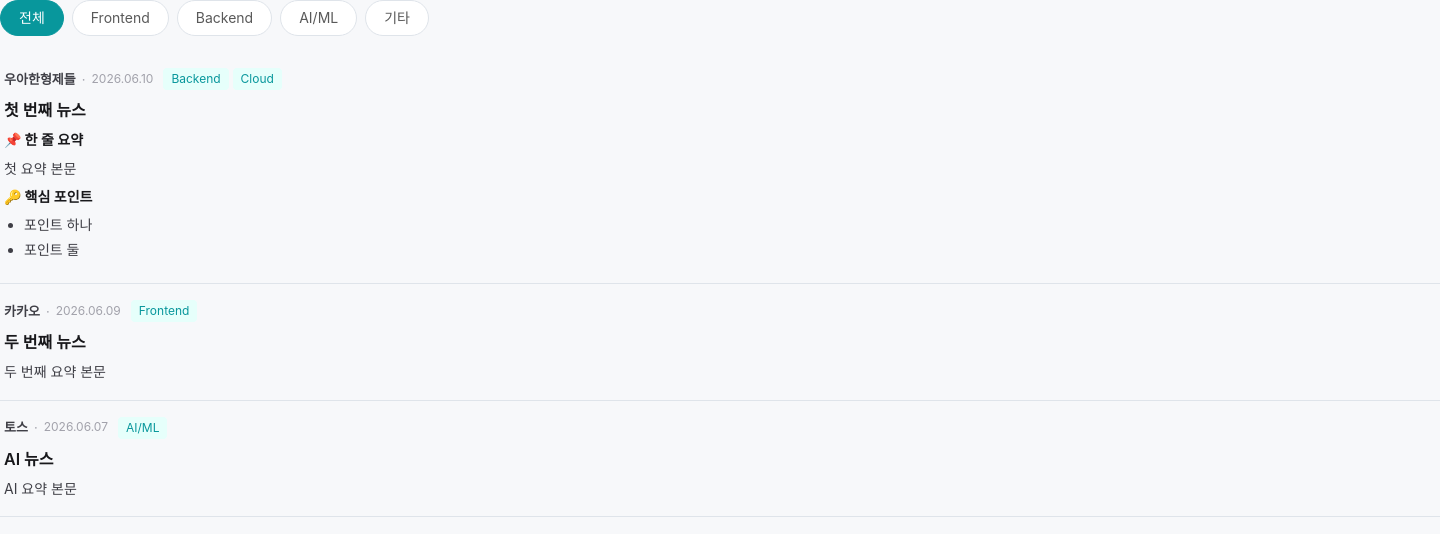
TechNewsPage › 슬래시 포함 라벨(AI/ML) 칩도 categoryId로 정상 필터링한다
The width and height of the screenshot is (1440, 534).
Check: the link "첫 번째 뉴스" is shown, box [4,100,86,120]
Click the text "AI/ML" next to "기타" at [319, 18], box [280,0,357,36]
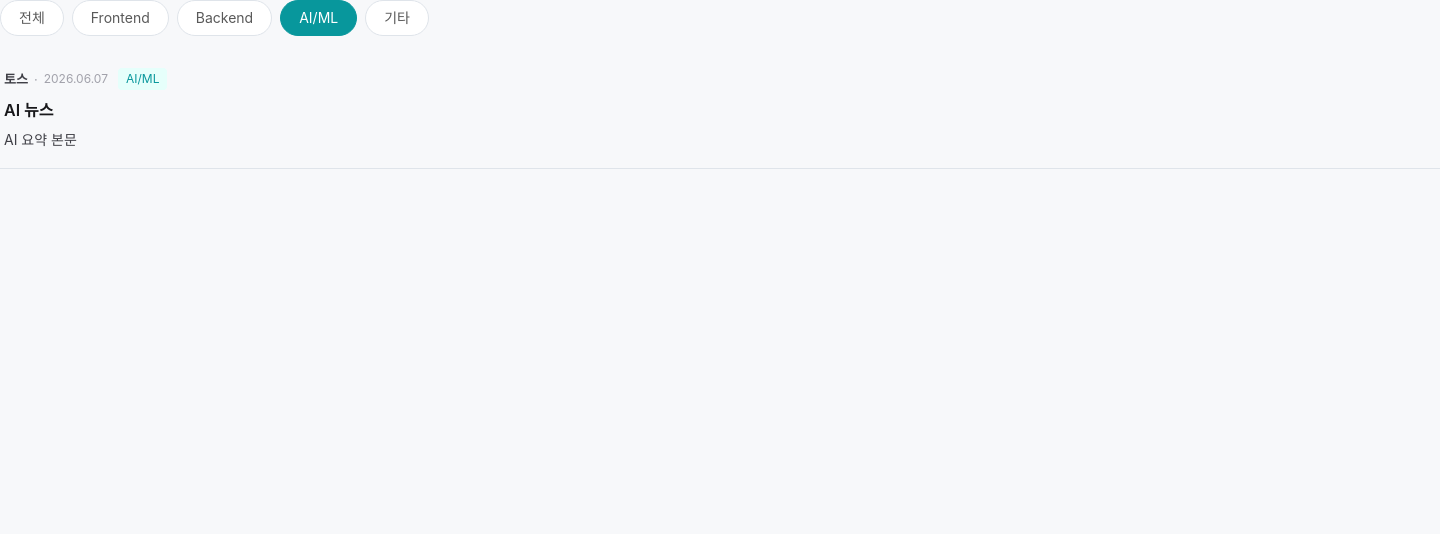
Check: the link "AI 뉴스" is shown, box [4,100,54,120]
Check: the link "첫 번째 뉴스" is gone
